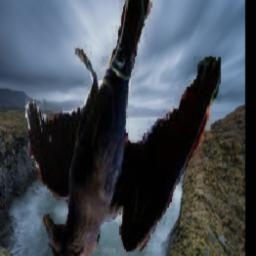Crow: (25, 0, 221, 256)
